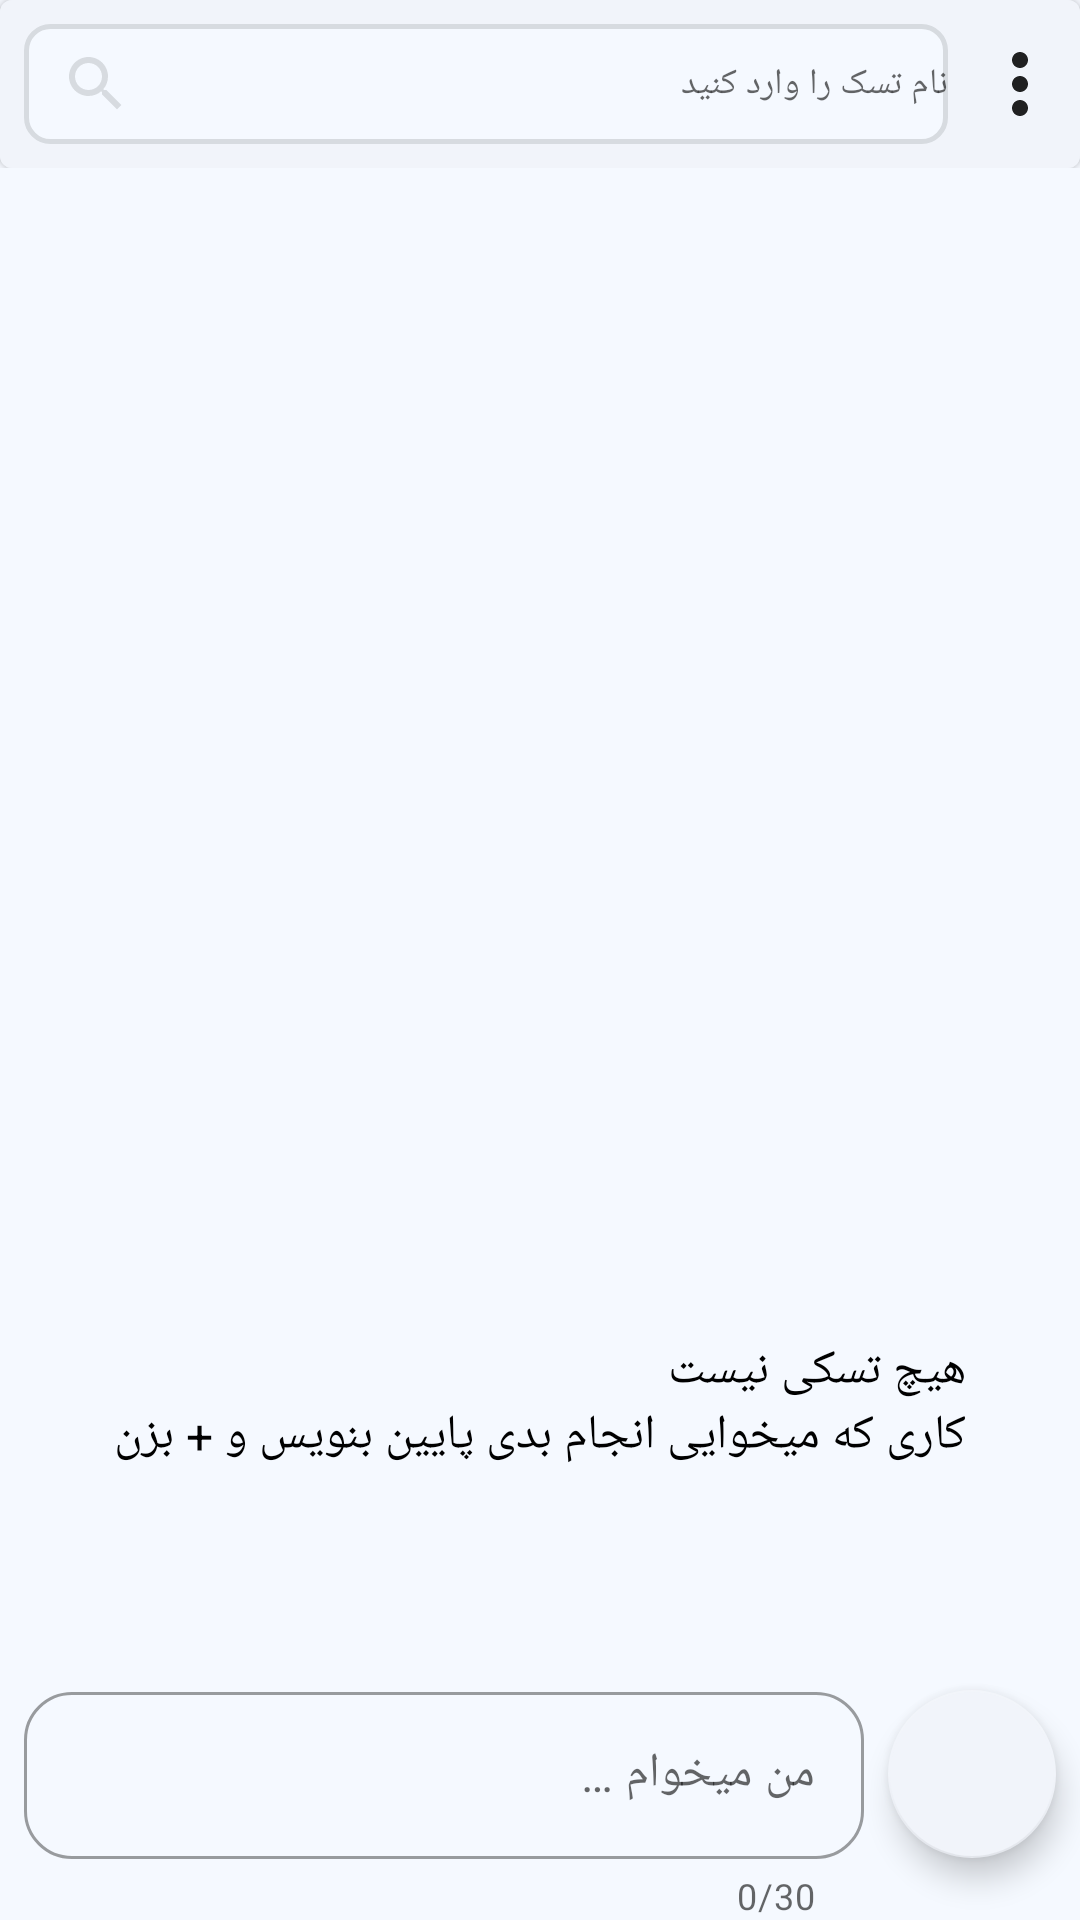

Locate icon controls on the screen. Image size 1080 × 1920, boxes as (x1, y1, x2, y2).
more vert: (1012, 52, 1028, 116)
